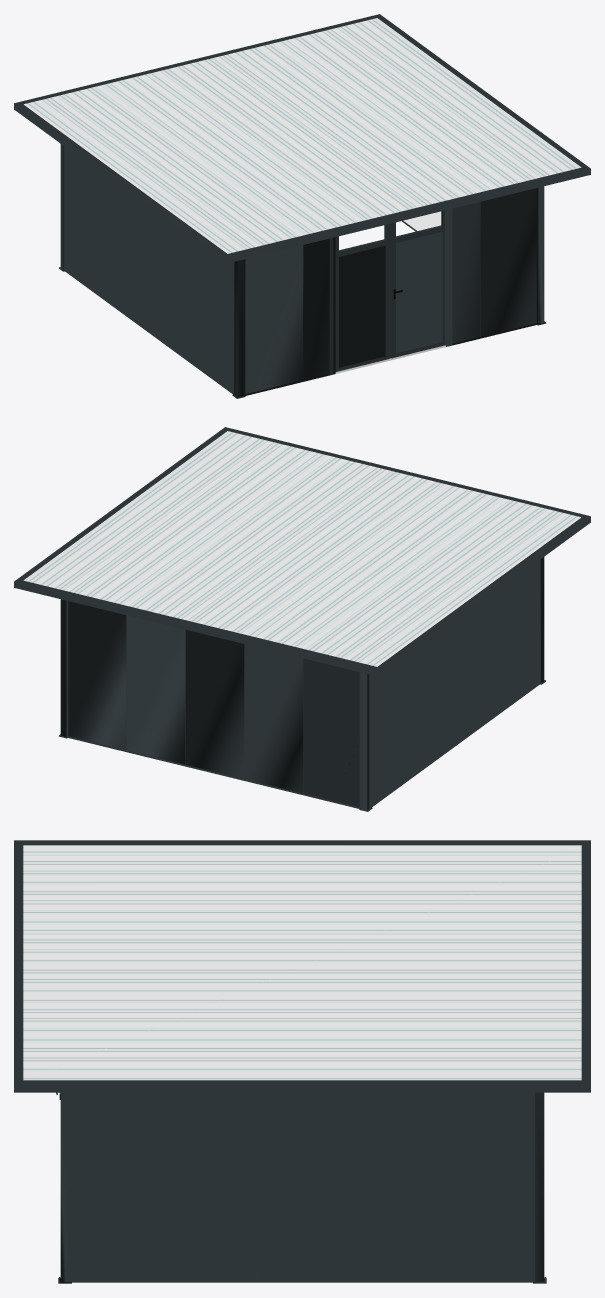
3 views of the same model, one above another, from view 1: azimuth 30°, elevation 25°; view 2: azimuth 150°, elevation 25°; view 3: azimuth 270°, elevation 25° (orthographic). The views are drawn at different scales.
Visible parts, largest first — view 1: priximbattable_net_abris_de_jardin_640008_abri_de_jardin_ane, folha, folha_2, porta_avec_hublot; view 2: priximbattable_net_abris_de_jardin_640008_abri_de_jardin_ane; view 3: priximbattable_net_abris_de_jardin_640008_abri_de_jardin_ane.
Boxes of the visible parts, x1,y1,x2,y2 form: priximbattable_net_abris_de_jardin_640008_abri_de_jardin_ane: (14, 14, 590, 398); folha: (335, 223, 392, 371); folha_2: (391, 210, 445, 358); porta_avec_hublot: (329, 209, 452, 375); priximbattable_net_abris_de_jardin_640008_abri_de_jardin_ane: (14, 427, 590, 811); priximbattable_net_abris_de_jardin_640008_abri_de_jardin_ane: (14, 840, 590, 1283).
Size of the model in its own units: 620 by 259 by 620.
Materials: 1 (1 with a texture image).
